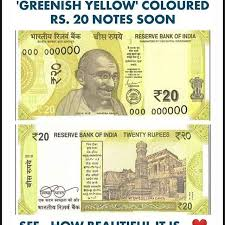twenty: (29, 44, 192, 107)
